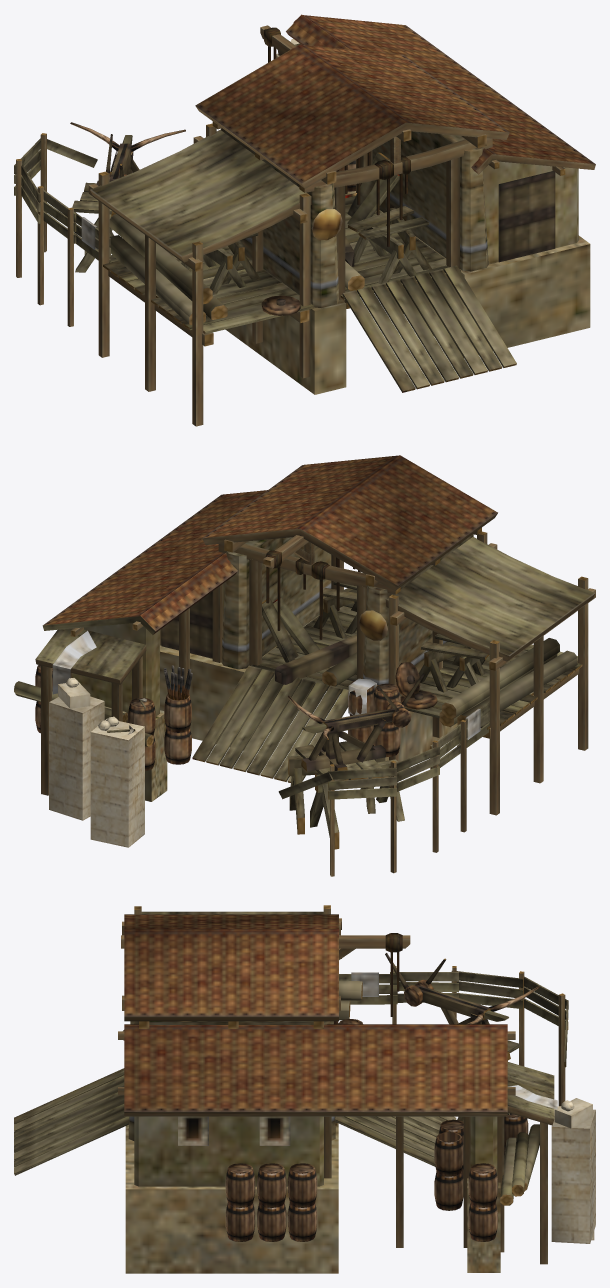
Rendered from s_spartans_workshop.glb.
3 renders of one model, top to bottom at view 1: azimuth 30°, elevation 25°; view 2: azimuth 150°, elevation 25°; view 3: azimuth 270°, elevation 25°, orthographic. The views are drawn at different scales.
Parts seen in each view (by area): view 1: s_spartans_workshop_part0; view 2: s_spartans_workshop_part0; view 3: s_spartans_workshop_part0.
Part boxes in pixels (x1=…): s_spartans_workshop_part0: x1=14, y1=14, x2=595, y2=426; s_spartans_workshop_part0: x1=14, y1=455, x2=595, y2=876; s_spartans_workshop_part0: x1=14, y1=905, x2=595, y2=1273.
Size of the model in its own units: 4.32 by 2.5 by 5.
1 material, 1 textured.
